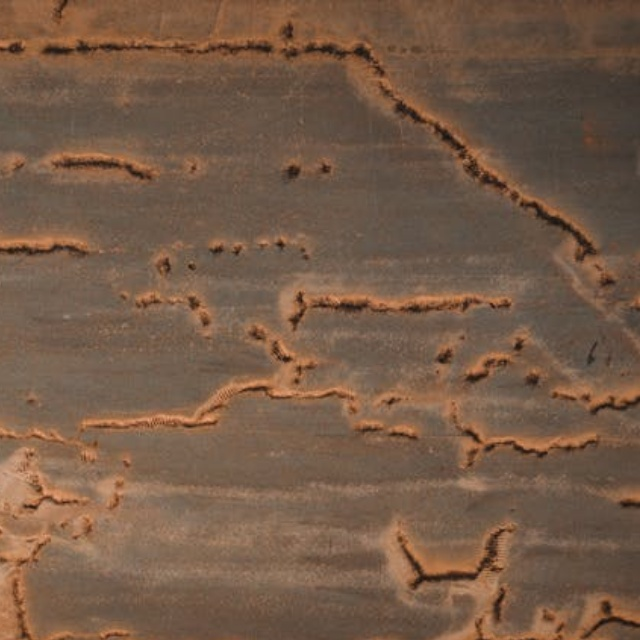细微裂纹: (0, 311, 640, 545), (0, 0, 640, 137)
